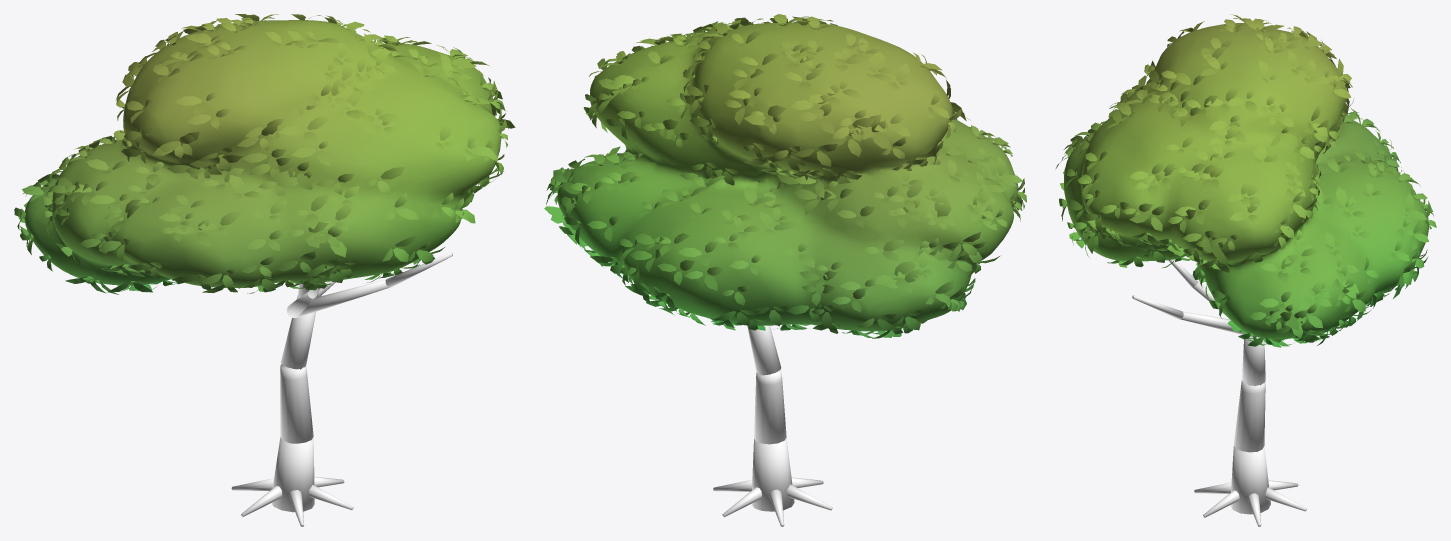
The model's file is beech_canopy_1.glb.
3 views of the same model, side by side, from view 1: azimuth 30°, elevation 25°; view 2: azimuth 150°, elevation 25°; view 3: azimuth 270°, elevation 25° (orthographic). The views are drawn at different scales.
Parts seen in each view (by area): view 1: beech_canopy_1_Leaves, beech_canopy_1_Bark, beech_canopy_1_UpperBranches; view 2: beech_canopy_1_Leaves, beech_canopy_1_Bark, beech_canopy_1_UpperBranches; view 3: beech_canopy_1_Leaves, beech_canopy_1_Bark, beech_canopy_1_UpperBranches.
Boxes of the visible parts, <box> form: beech_canopy_1_Leaves: <box>14,14,515,294</box>; beech_canopy_1_Bark: <box>231,375,353,526</box>; beech_canopy_1_UpperBranches: <box>280,252,452,379</box>; beech_canopy_1_Leaves: <box>544,14,1026,338</box>; beech_canopy_1_Bark: <box>713,380,832,526</box>; beech_canopy_1_UpperBranches: <box>747,325,782,384</box>; beech_canopy_1_Leaves: <box>1055,14,1436,347</box>; beech_canopy_1_Bark: <box>1194,389,1306,526</box>; beech_canopy_1_UpperBranches: <box>1132,259,1265,393</box>.
Bounding box in the file's own units: 14.92 × 15.83 × 12.15.
